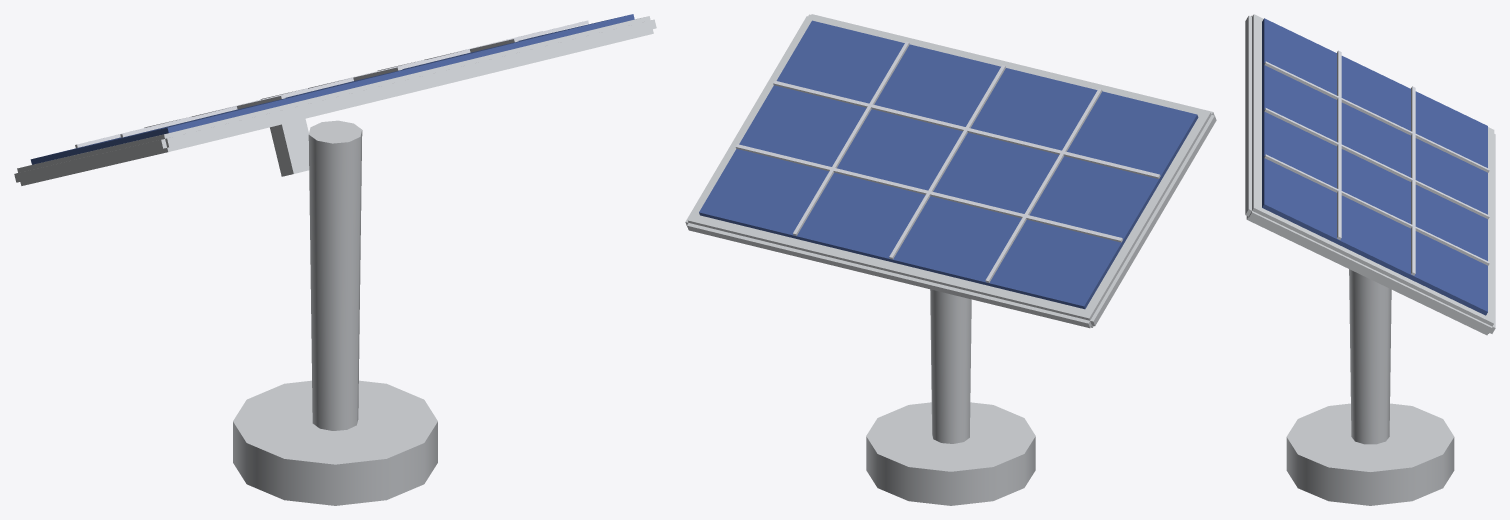
Rendered from solar_panel.fbx.
3 views of the same model, side by side, from view 1: azimuth 30°, elevation 25°; view 2: azimuth 150°, elevation 25°; view 3: azimuth 270°, elevation 25° (orthographic). The views are drawn at different scales.
Visible parts, largest first — view 1: solar_panel; view 2: solar_panel; view 3: solar_panel.
Boxes of the visible parts, bbox=[...] form: solar_panel: bbox=[14, 14, 656, 505]; solar_panel: bbox=[685, 14, 1216, 505]; solar_panel: bbox=[1245, 14, 1495, 505].
Size of the model in its own units: 2.5 by 2.14 by 1.34.
